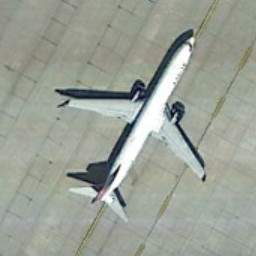Airplane: (49, 26, 223, 227)
